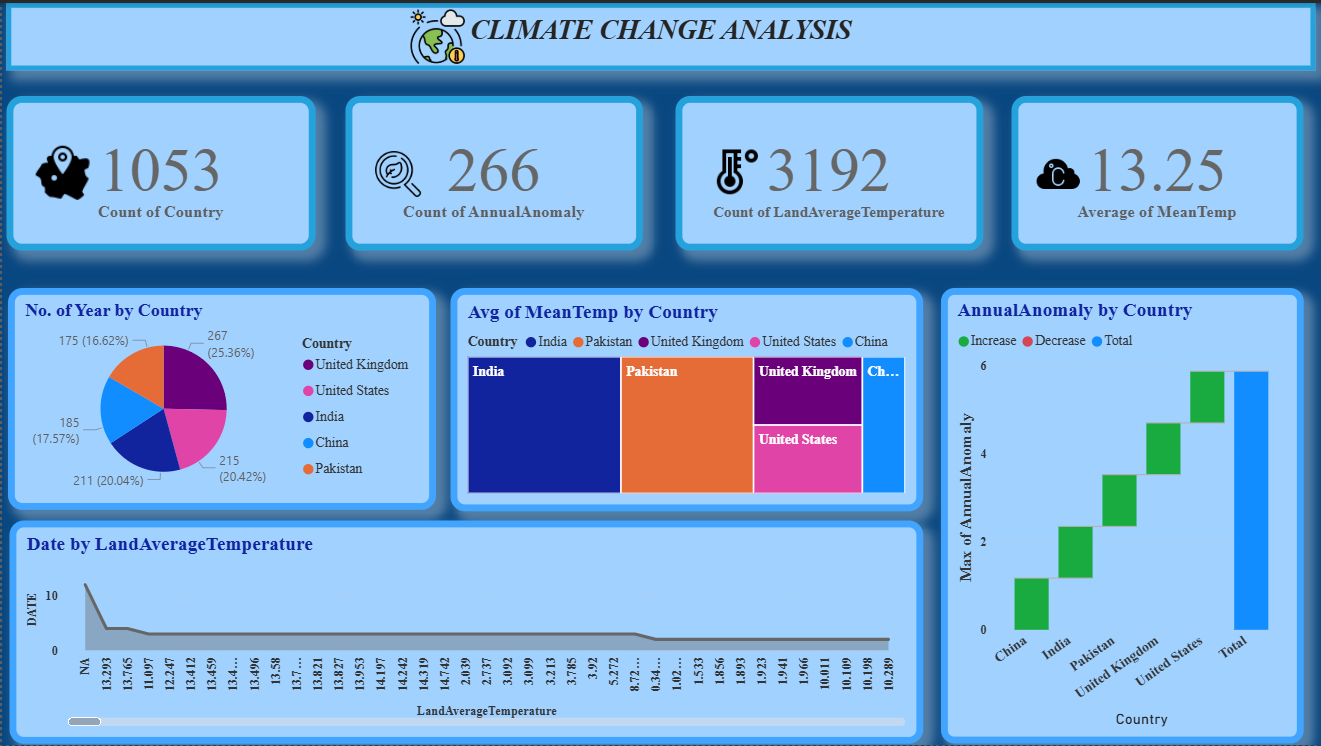

This screenshot's page, from the dashboard's own definition file:
{"tool":"powerbi","page":{"name":"DASHBOARD","canvas":[1280,720],"ordinal":0},"visuals":[{"type":"textbox","box":[5,0,1270,65],"z":0},{"type":"image","box":[366.7,0,111.7,65],"z":1000},{"type":"card","fields":{"Values":["CountNonNull(country_yearly_temps_selected.Country)"]},"box":[5,90,300,150],"z":2000},{"type":"card","fields":{"Values":["CountNonNull(global_annual_anomaly.AnnualAnomaly)"]},"box":[333.3,90,288.3,150],"z":3000},{"type":"card","fields":{"Values":["Avg(country_yearly_temps_selected.MeanTemp)"]},"box":[980,90,283.3,150],"z":4000},{"type":"card","fields":{"Values":["CountNonNull(global_monthly_temp_clean.LandAverageTemperature)"]},"box":[653.3,90,298.3,150],"z":5000},{"type":"image","box":[26.7,128.3,65,73.3],"z":6000},{"type":"image","box":[333.3,138.3,101.7,55],"z":7000},{"type":"image","box":[668.3,130,86.7,68.3],"z":8000},{"type":"image","box":[980,135,90,58.3],"z":9000},{"type":"pieChart","title":"No. of Year by Country","fields":{"Category":["country_yearly_temps_selected.Country"],"Y":["CountNonNull(country_yearly_temps_selected.Year)"]},"box":[6.2,276.1,415.6,215.6],"z":9001},{"type":"treemap","title":"Avg of MeanTemp by Country","fields":{"Group":["country_yearly_temps_selected.Country"],"Values":["Avg(country_yearly_temps_selected.MeanTemp)"]},"box":[435,276.7,458.3,216.7],"z":9002},{"type":"areaChart","title":"Date by LandAverageTemperature","fields":{"Category":["global_monthly_temp_clean.LandAverageTemperature"],"Y":["CountNonNull(global_monthly_temp_clean.dt)"]},"box":[6.7,501.7,886.7,216.7],"z":9003},{"type":"waterfallChart","title":"AnnualAnomaly by Country","fields":{"Y":["Max(global_annual_anomaly.AnnualAnomaly)"],"Category":["country_yearly_temps_selected.Country"]},"box":[911.7,276.7,351.7,441.7],"z":9004}]}

Visuals, with their boxes in screenshot pixels (x1, y1, x2, y2), scaled from the page's 1280x720 canvas onto the 1321x746 screenshot:
textbox: <box>5,0,1316,67</box>
image: <box>378,0,494,67</box>
card - CountNonNull(country_yearly_temps_selected.Country): <box>5,93,315,249</box>
card - CountNonNull(global_annual_anomaly.AnnualAnomaly): <box>344,93,642,249</box>
card - Avg(country_yearly_temps_selected.MeanTemp): <box>1011,93,1304,249</box>
card - CountNonNull(global_monthly_temp_clean.LandAverageTemperature): <box>674,93,982,249</box>
image: <box>28,133,95,209</box>
image: <box>344,143,449,200</box>
image: <box>690,135,779,205</box>
image: <box>1011,140,1104,200</box>
"No. of Year by Country" pieChart: <box>6,286,435,509</box>
"Avg of MeanTemp by Country" treemap: <box>449,287,922,511</box>
"Date by LandAverageTemperature" areaChart: <box>7,520,922,744</box>
"AnnualAnomaly by Country" waterfallChart: <box>941,287,1304,744</box>
